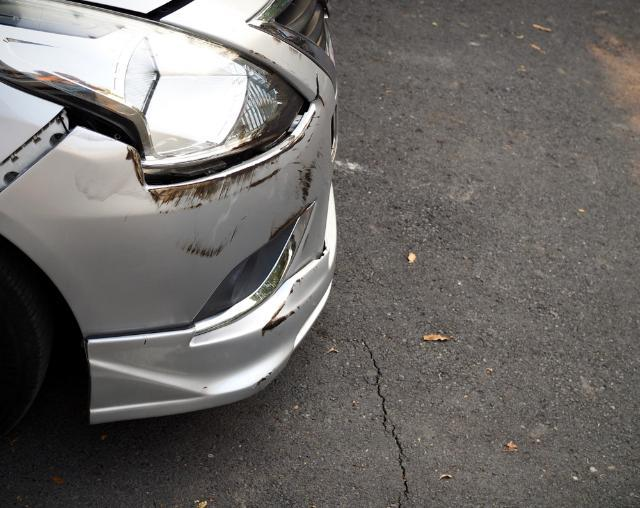crack: (309, 69, 327, 108)
dislocated part: (0, 104, 335, 427)
scratch: (68, 107, 327, 258), (259, 267, 321, 338)
